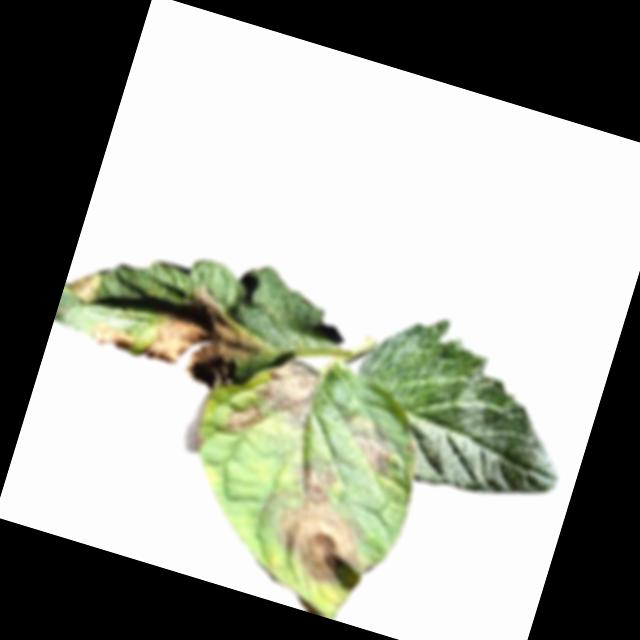Late_blight: (248, 455, 398, 597), (141, 275, 277, 400), (247, 350, 327, 436), (330, 407, 407, 480), (86, 318, 140, 358), (60, 262, 105, 309), (221, 397, 265, 439)
healthy: (331, 297, 595, 519)
